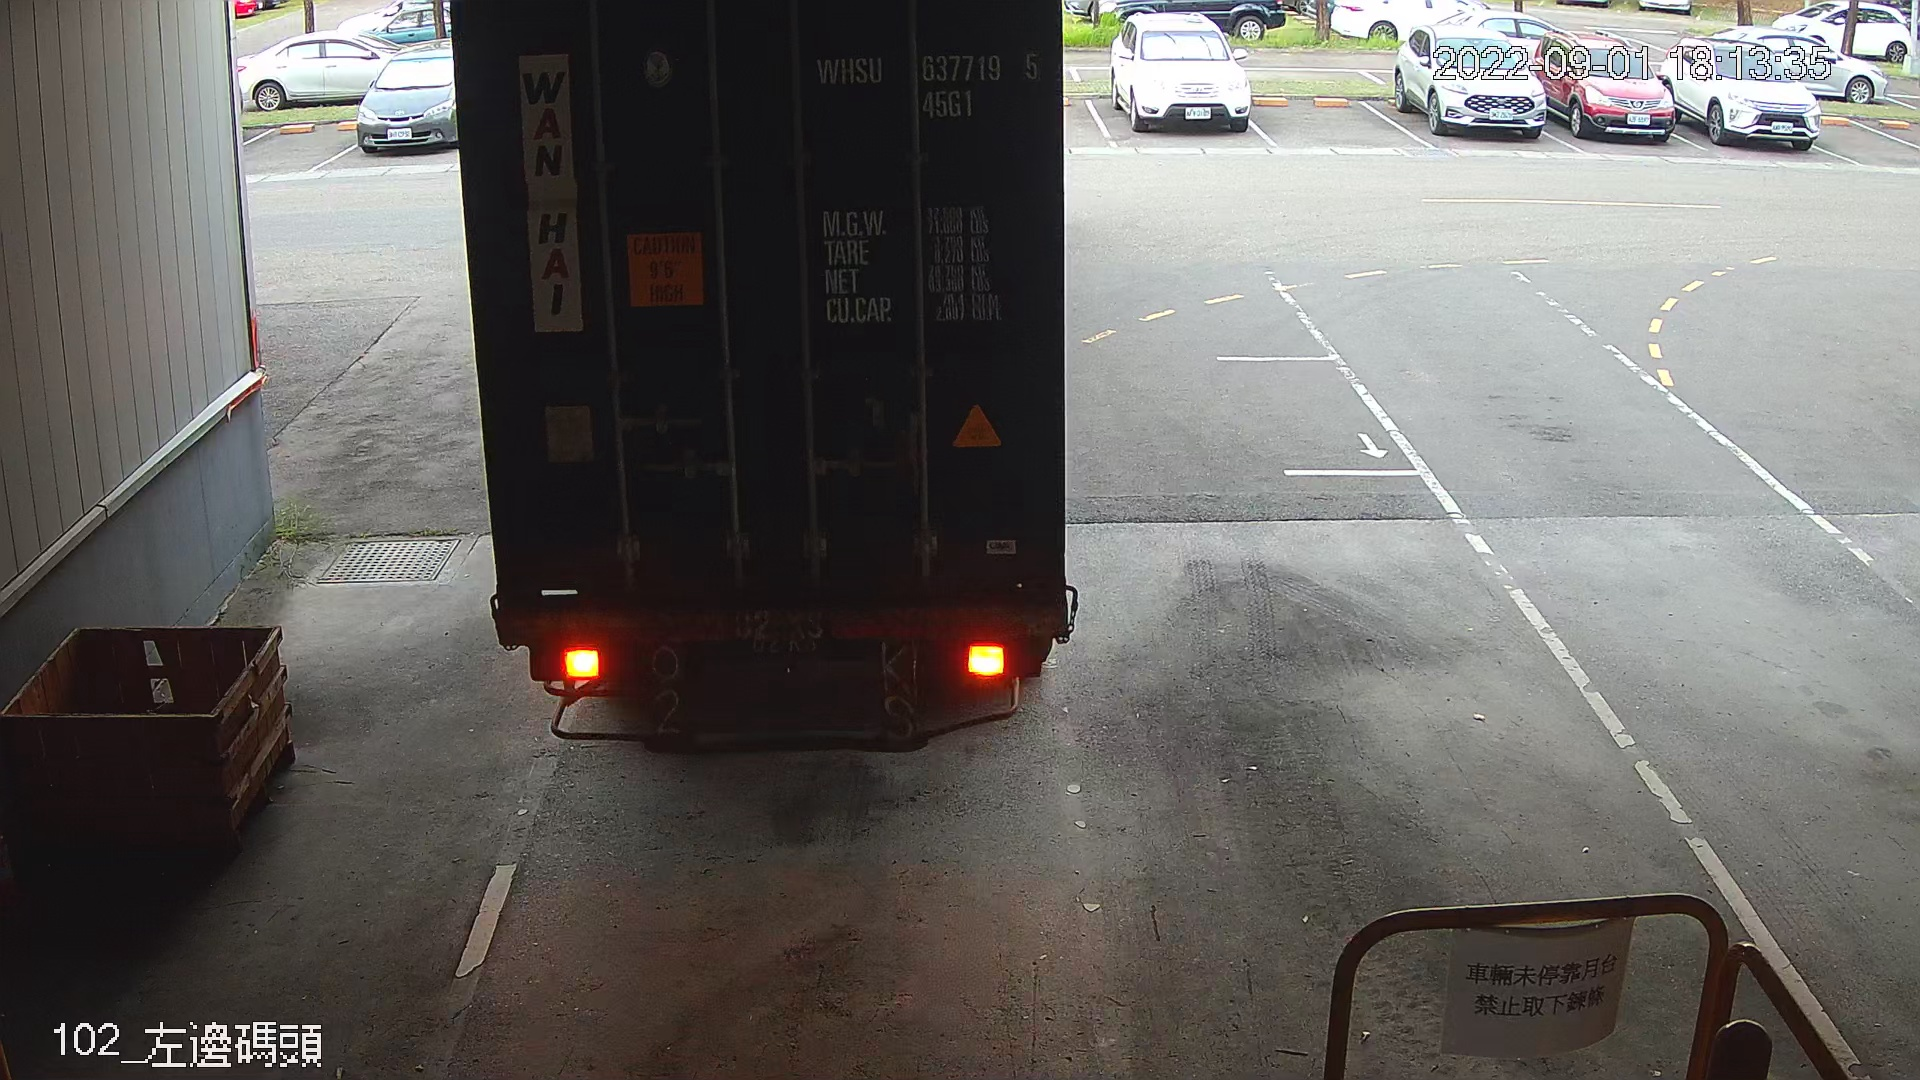container: (806, 40, 1051, 127)
